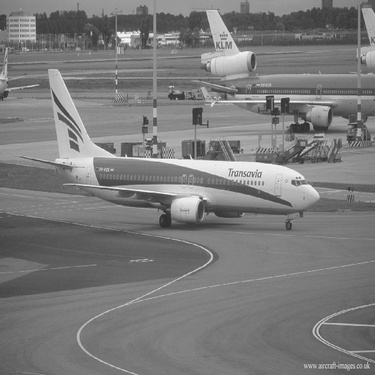airplane: (1, 49, 329, 231), (182, 1, 374, 130), (335, 3, 374, 77), (1, 45, 42, 109)
